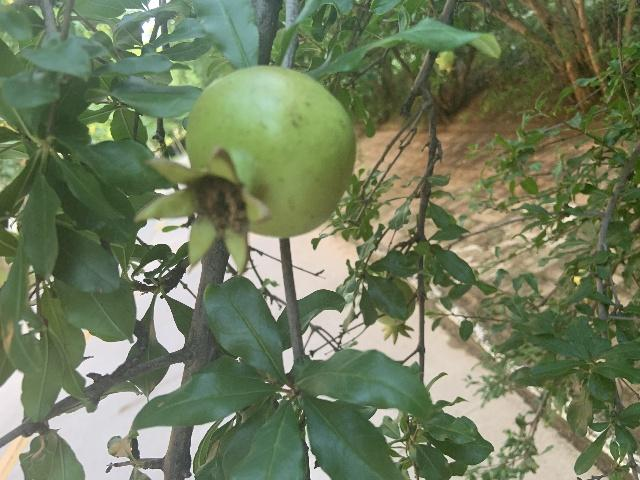mid-growth: (138, 65, 354, 278), (375, 278, 415, 344), (434, 50, 457, 75)
